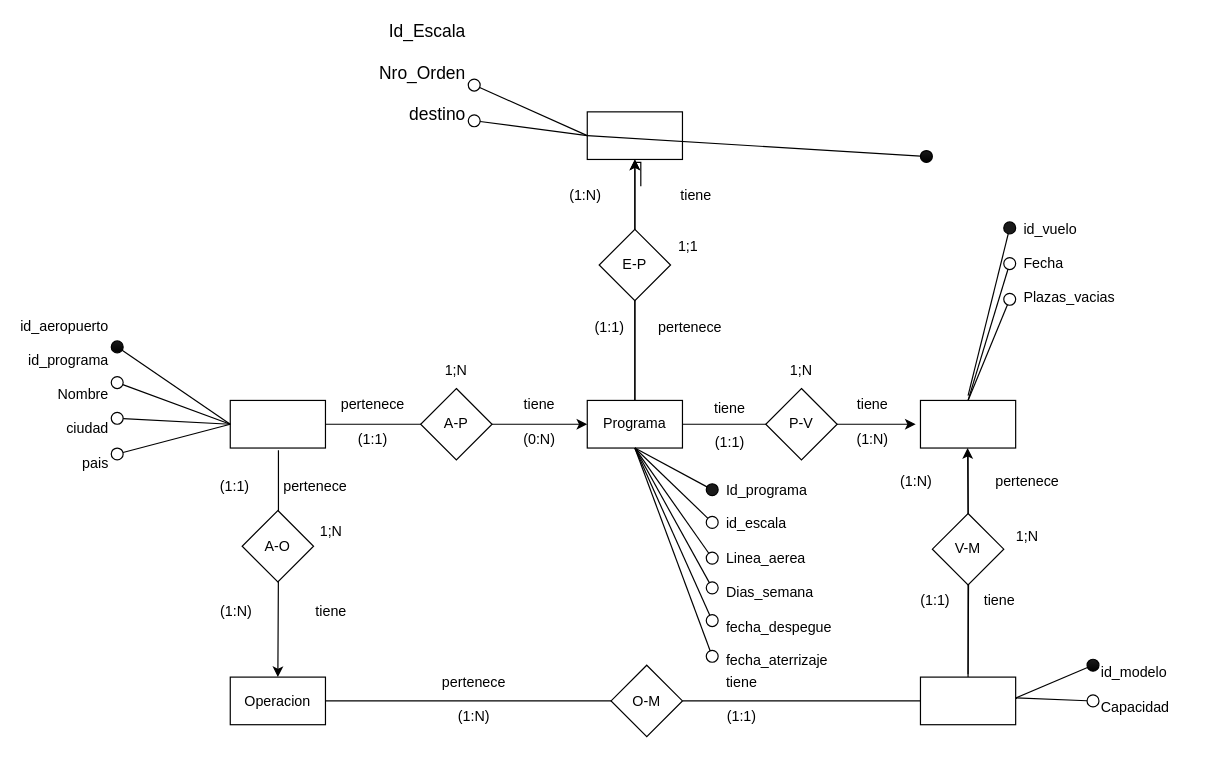
This 1220x762 diagram has some shape labels left out. Here are the shapes that lost their labels. From the top down, the box of each, then its label:
(586, 111, 682, 159): Escala
(229, 399, 325, 448): Empleado
(919, 399, 1016, 448): Vuelo
(919, 676, 1016, 725): Modelo
